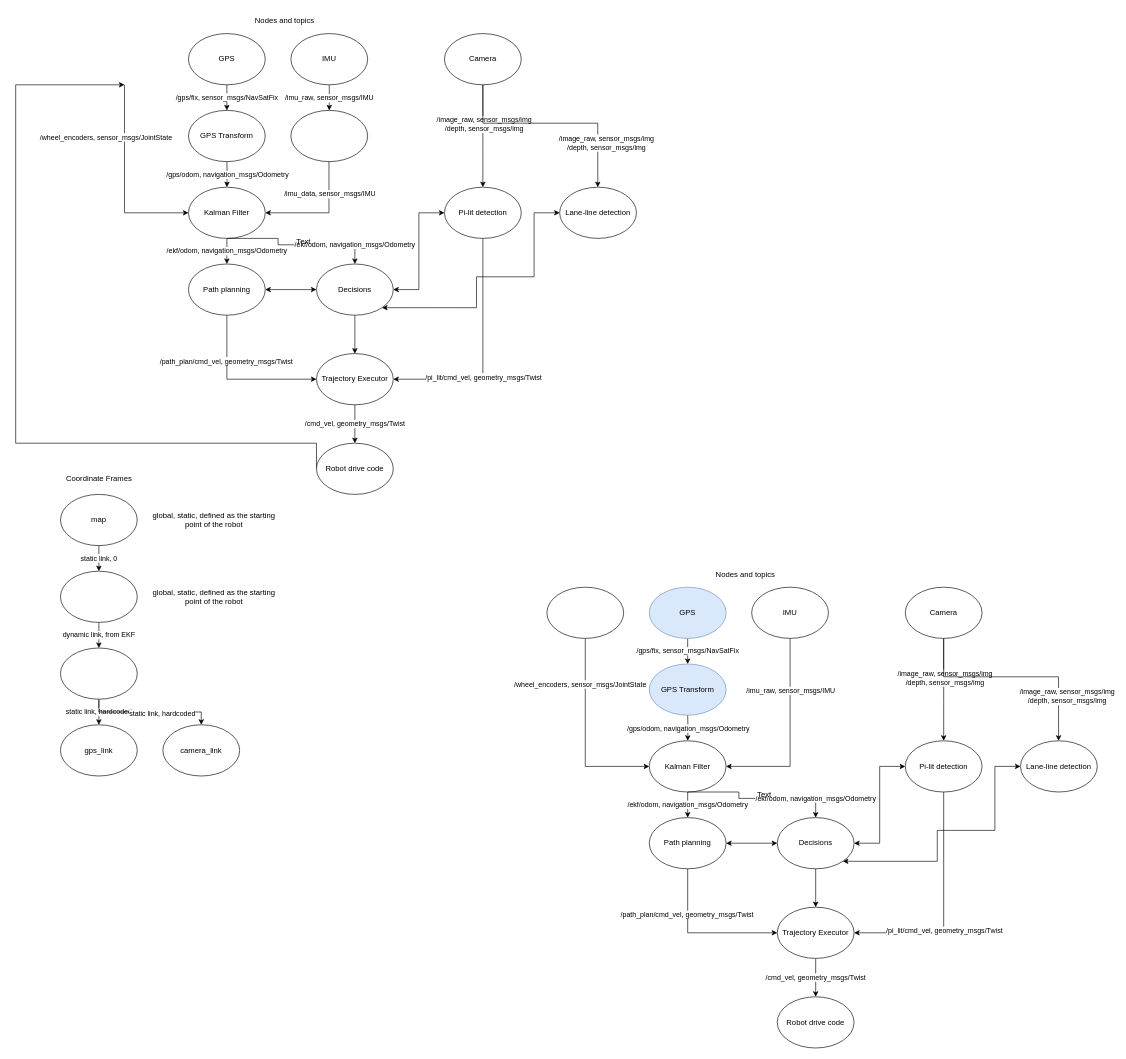
Image size: 1126x1059. Some labels were removed from this diagram. The shapes that lost their labels are listed below. From the top down, each one's centre as x and y in pixels, then its label:
At (329,136): "IMU calibration".
At (98,596): "odom".
At (585,612): "Wheel encoders".
At (98,673): "base_link".
